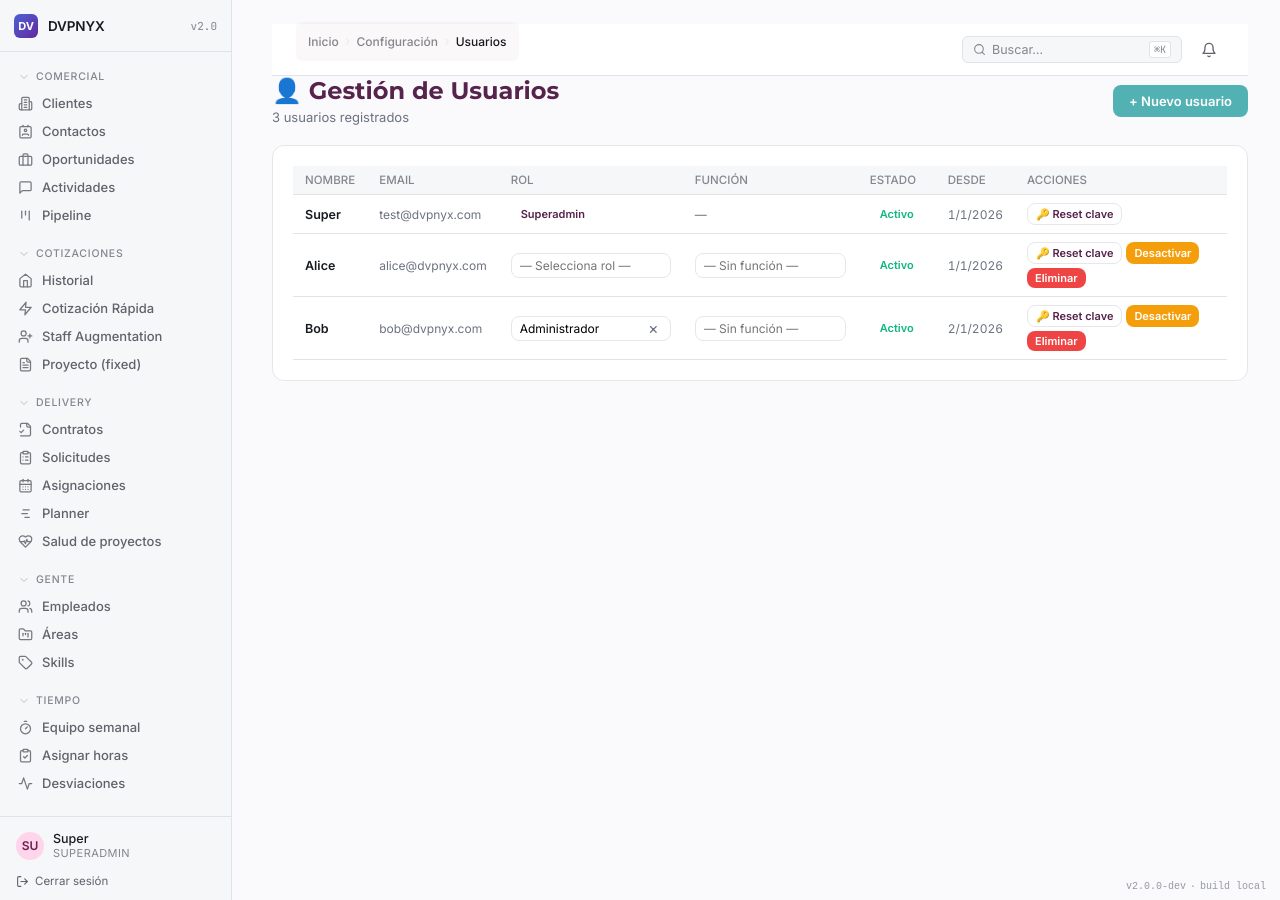
Test: AdminUsers — superadmin: change role & delete user › deletes user after confirm and removes row from table
Check: the text "Alice" is shown, box [293,234,367,296]
Click the button with aria-label "Eliminar Alice": x=1056, y=278 [1027,268,1086,288]
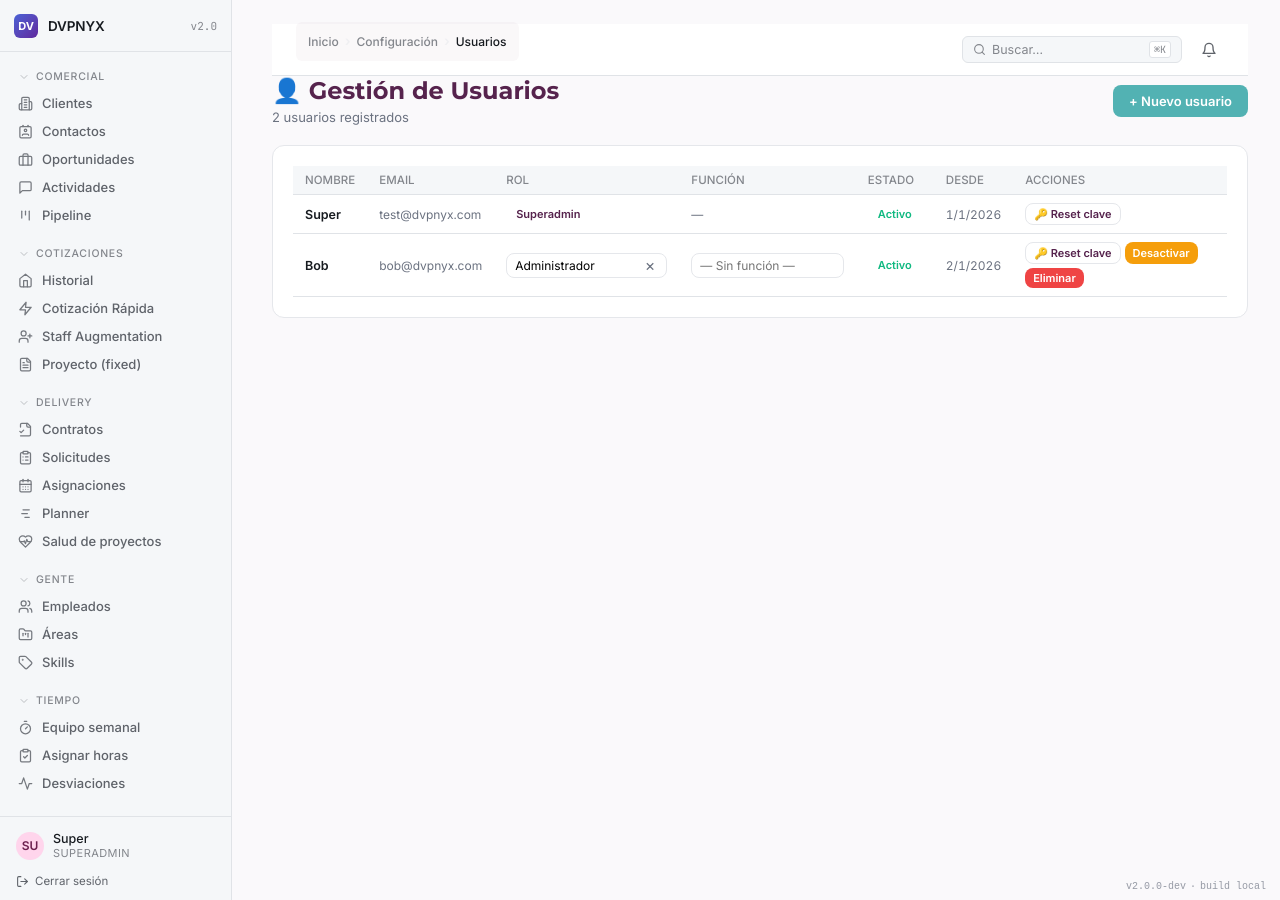
Check: the text "Alice" is gone
